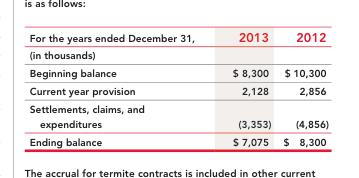table: (28, 28, 328, 147)
table column: (28, 28, 212, 147), (212, 28, 276, 147), (276, 28, 328, 147)
table column header: (28, 28, 328, 46)
table projected row header: (28, 46, 328, 63)
table row: (28, 99, 328, 132), (28, 28, 328, 46), (28, 63, 328, 81), (28, 81, 328, 99), (28, 46, 328, 63), (28, 132, 328, 147)
